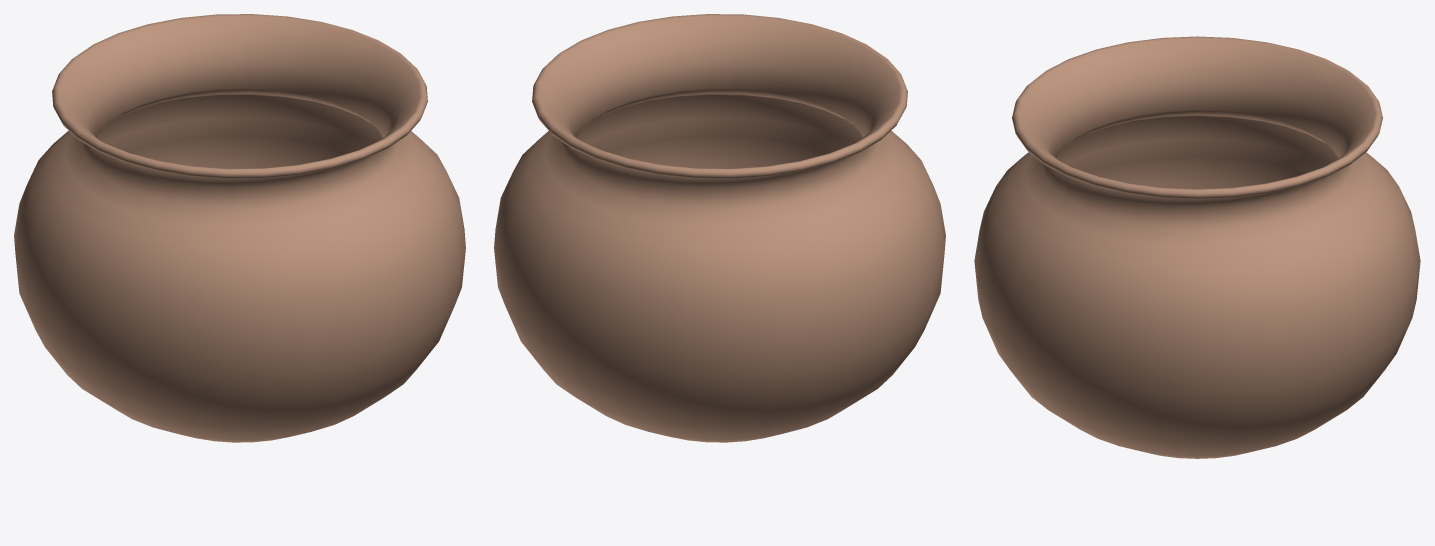
Rendered from Cauldron.fbx.
The picture shows the model from 3 angles, left to right: view 1: azimuth 30°, elevation 25°; view 2: azimuth 150°, elevation 25°; view 3: azimuth 270°, elevation 25°; orthographic projection.
Visible parts, largest first — view 1: Cauldron; view 2: Cauldron; view 3: Cauldron.
Boxes of the visible parts, left/top/right/bottom form: Cauldron: left=14, top=14, right=465, bottom=442; Cauldron: left=494, top=14, right=945, bottom=442; Cauldron: left=974, top=36, right=1420, bottom=458.
Size of the model in its own units: 196 by 174 by 188.
